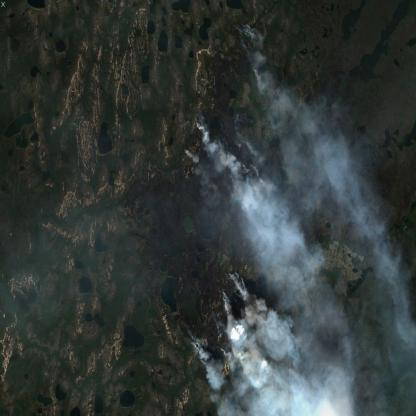fire: (181, 16, 266, 172), (183, 265, 253, 382)
